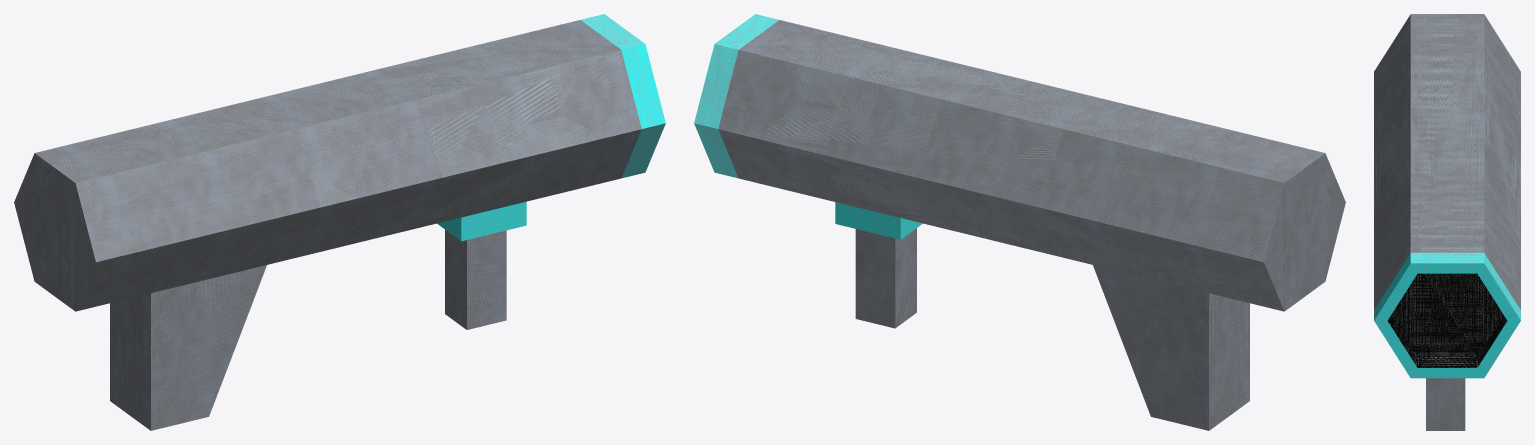
The model's file is bazooka.dae.
The picture shows the model from 3 angles, left to right: view 1: azimuth 30°, elevation 25°; view 2: azimuth 150°, elevation 25°; view 3: azimuth 270°, elevation 25°; orthographic projection. The views are drawn at different scales.
Parts seen in each view (by area): view 1: SketchUp (×5); view 2: SketchUp (×4); view 3: SketchUp (×6).
Part boxes in pixels (bbox=[...]): SketchUp (×5): bbox=[14, 14, 665, 430]; SketchUp (×4): bbox=[694, 14, 1345, 430]; SketchUp (×6): bbox=[1374, 14, 1520, 430].
Bounding box in the file's own units: 304 × 75.59 × 136.
5 materials, 1 textured.
